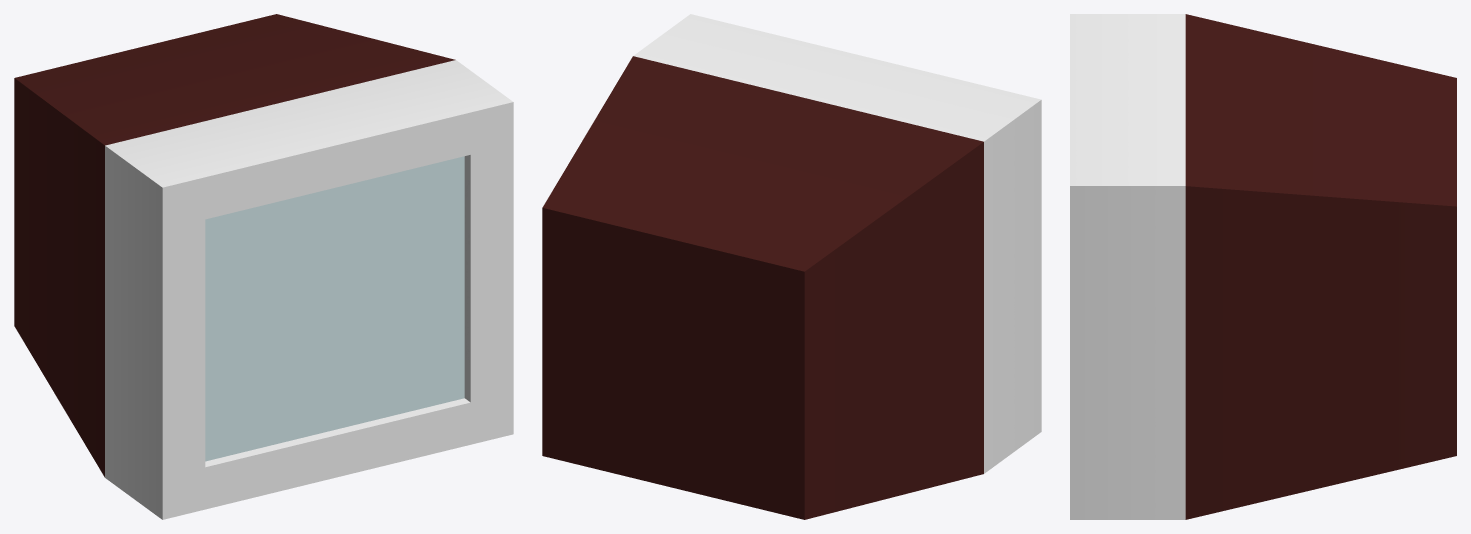
File: Itr_Obj_Monitor_CRT_Screen_On_02.FBX
3 renders of one model, left to right at view 1: azimuth 30°, elevation 25°; view 2: azimuth 150°, elevation 25°; view 3: azimuth 270°, elevation 25°, orthographic.
Parts seen in each view (by area): view 1: Itr_Obj_Monitor_CRT_Screen_On_02; view 2: Itr_Obj_Monitor_CRT_Screen_On_02; view 3: Itr_Obj_Monitor_CRT_Screen_On_02.
Boxes of the visible parts, x1,y1,x2,y2 form: Itr_Obj_Monitor_CRT_Screen_On_02: [14, 14, 513, 519]; Itr_Obj_Monitor_CRT_Screen_On_02: [542, 14, 1041, 519]; Itr_Obj_Monitor_CRT_Screen_On_02: [1070, 14, 1456, 519].
Bounding box in the file's own units: 20.38 × 18.44 × 19.36.
